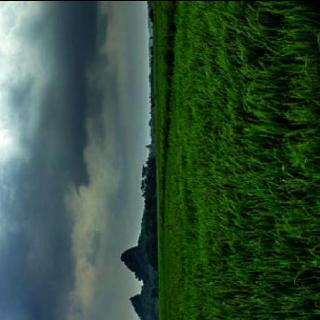Nimbostratus: (0, 0, 161, 320)
